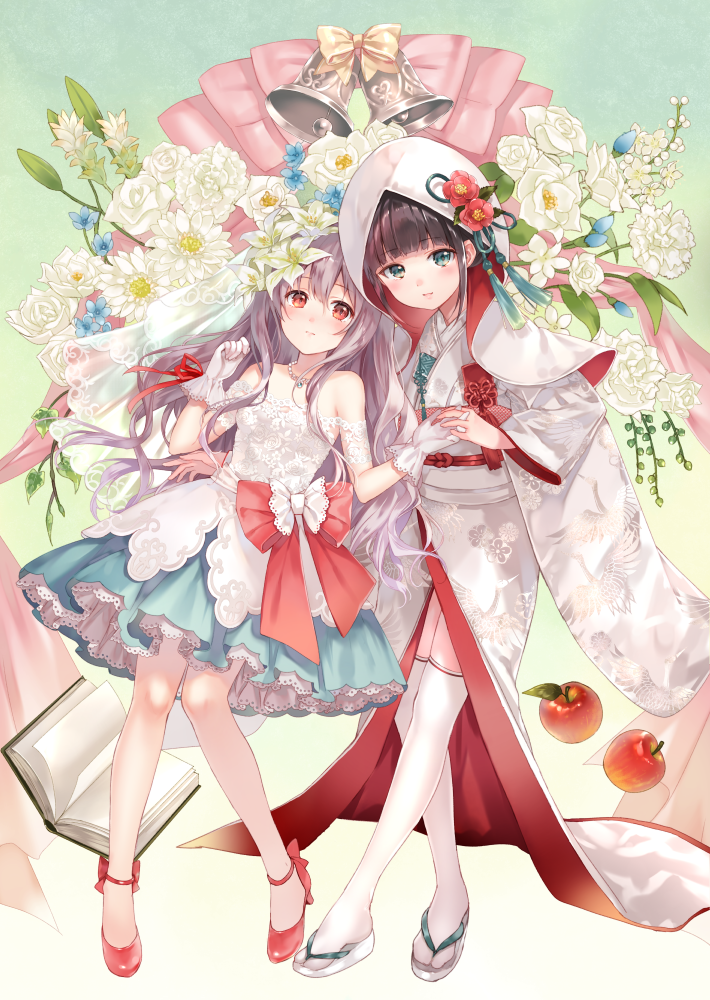纸片人正脸: (344, 161, 485, 326), (271, 237, 378, 364)
